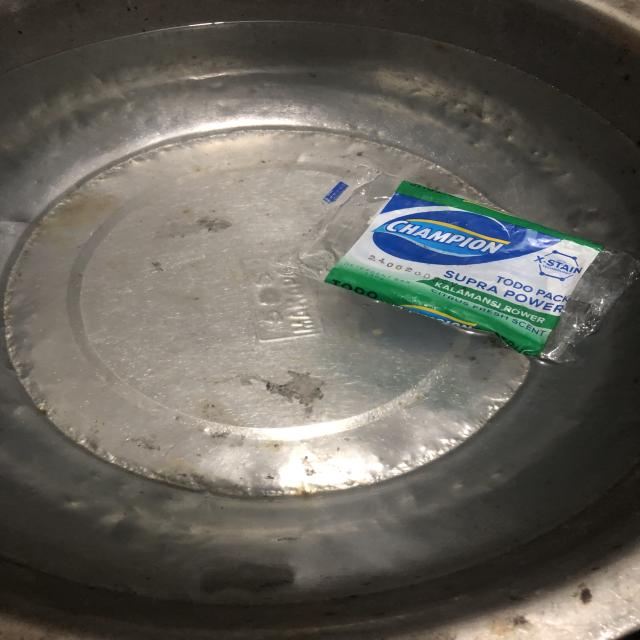Plastic Wrapper: (230, 142, 640, 382)
